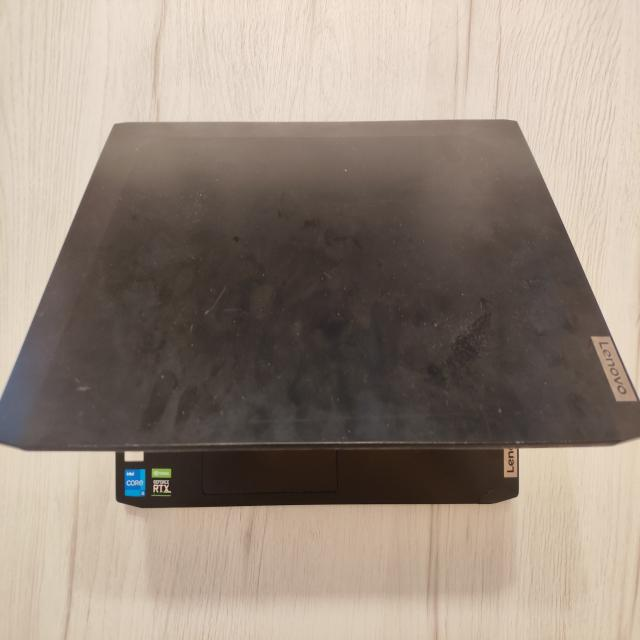other: (409, 286, 496, 377), (299, 216, 363, 252), (563, 391, 593, 444), (524, 312, 581, 339), (543, 341, 570, 374), (272, 178, 291, 221), (225, 226, 244, 245)
scratch: (187, 276, 229, 341), (58, 369, 100, 404), (472, 398, 495, 438), (317, 263, 339, 288), (127, 136, 147, 161), (34, 302, 59, 320)
